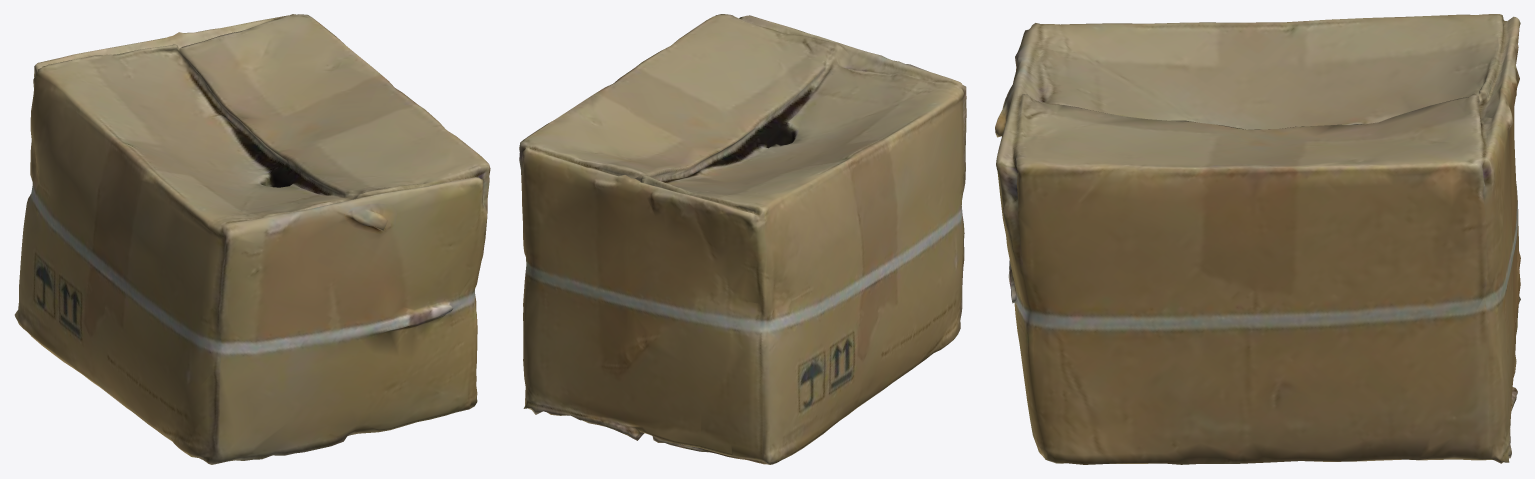
The model's file is cardboard_box_01.glb.
3 renders of one model, left to right at view 1: azimuth 30°, elevation 25°; view 2: azimuth 150°, elevation 25°; view 3: azimuth 270°, elevation 25°, orthographic. The views are drawn at different scales.
Parts seen in each view (by area): view 1: cardboard_box_01; view 2: cardboard_box_01; view 3: cardboard_box_01.
Part boxes in pixels (x1=…): cardboard_box_01: x1=14, y1=14, x2=490, y2=464; cardboard_box_01: x1=519, y1=14, x2=966, y2=464; cardboard_box_01: x1=995, y1=14, x2=1520, y2=464.
Bounding box in the file's own units: 0.3868 × 0.3418 × 0.5159.
Materials: 1 (1 with a texture image).
